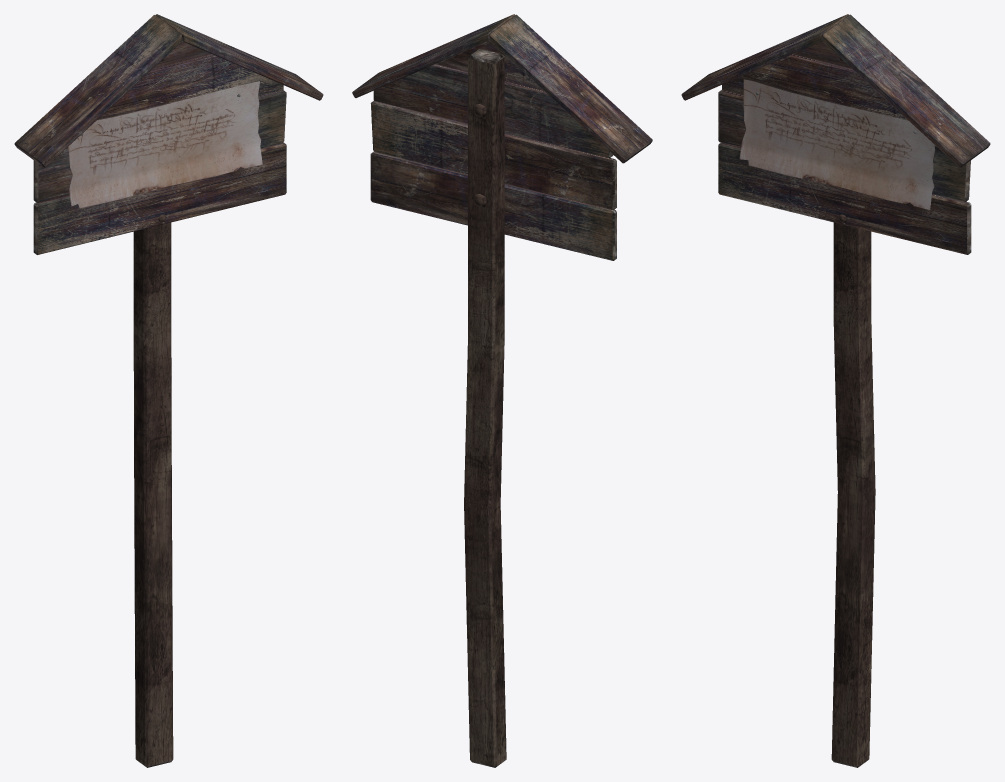
The model's file is SignPost_fbx.fbx.
3 renders of one model, left to right at view 1: azimuth 30°, elevation 25°; view 2: azimuth 150°, elevation 25°; view 3: azimuth 330°, elevation 25°, orthographic. The views are drawn at different scales.
Parts seen in each view (by area): view 1: Signpost; view 2: Signpost; view 3: Signpost.
Part boxes in pixels (left/top/right/bottom): Signpost: left=14, top=14, right=323, bottom=767; Signpost: left=352, top=14, right=652, bottom=767; Signpost: left=681, top=14, right=990, bottom=767.
Bounding box in the file's own units: 67.18 × 170 × 15.93.
